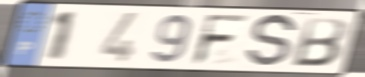1: (45, 10, 80, 63)
4: (97, 10, 139, 67)
9: (149, 12, 195, 66)
B: (288, 16, 349, 69)
F: (189, 12, 253, 67)
S: (243, 13, 299, 71)
